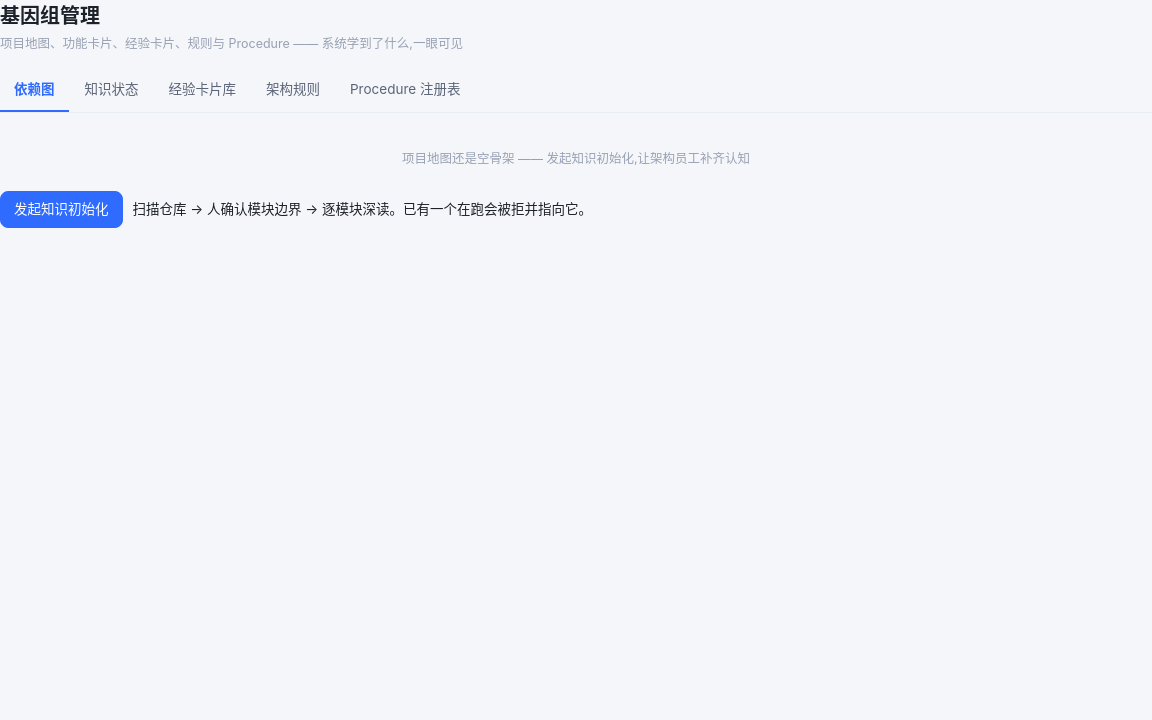
Scenario: GenomeManagement 知识状态 › shows the tree as modules with their feature cards nested under them
Click the button "知识状态": [112, 91] box [70,70,152,112]
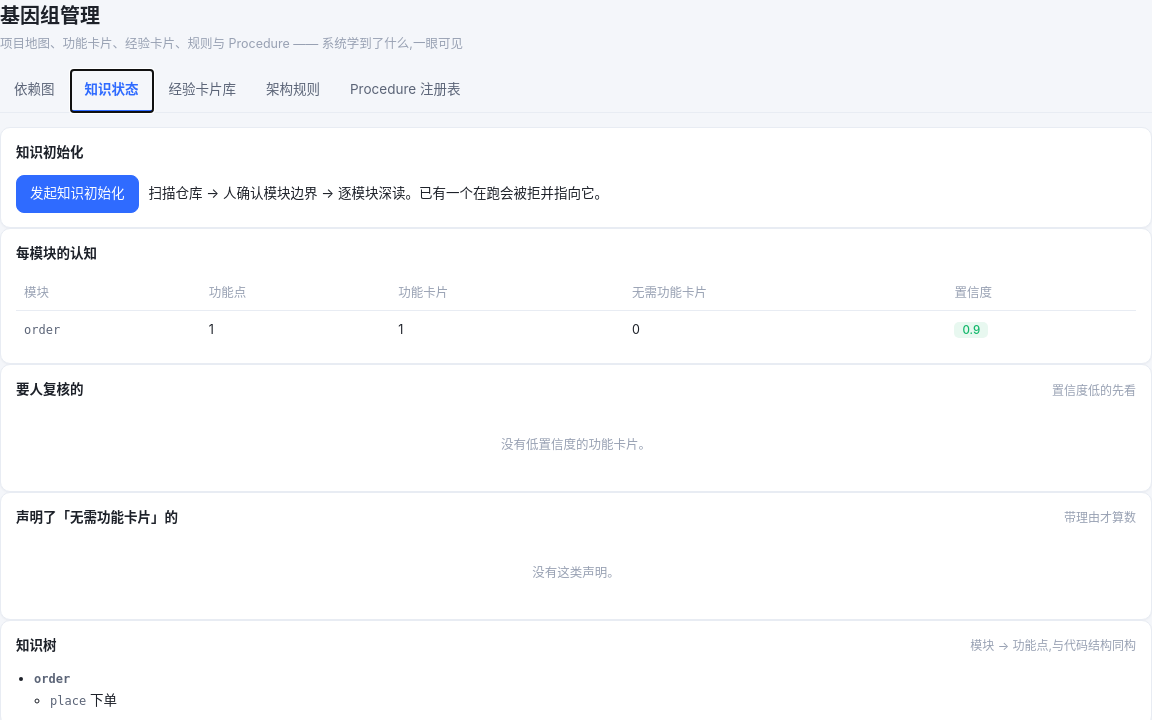
Expected: the text "place" is shown, [50,694,86,708]
